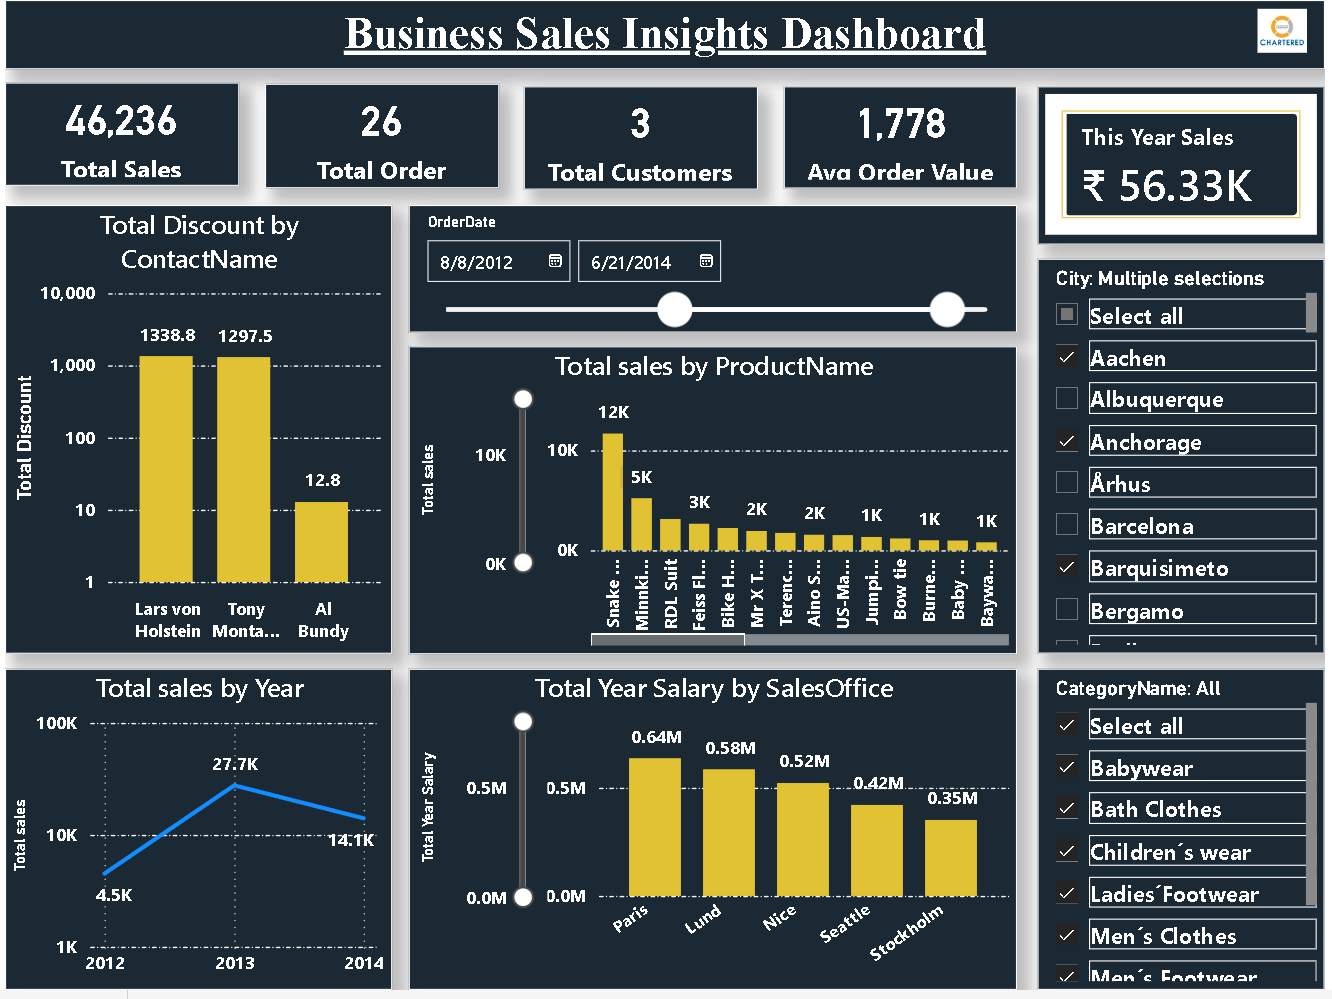

What the dashboard file says about the page in this screenshot:
{"tool":"powerbi","page":{"name":"First Slaes Dashboard 02.","canvas":[960,720],"ordinal":0},"visuals":[{"type":"textbox","box":[0,0,960,50],"z":0},{"type":"image","box":[911.2,0,36.2,45],"z":1000},{"type":"card","fields":{"Values":["OrderDetails.Total sales"]},"box":[0,59.9,170,75],"z":2000},{"type":"card","fields":{"Values":["OrderDetails.Total order"]},"box":[188.7,60.7,170,75.8],"z":3000},{"type":"card","fields":{"Values":["Customers.Total Customers"]},"box":[377.4,62.4,170,75],"z":4000},{"type":"card","fields":{"Values":["OrderDetails.Avg Order Value"]},"box":[566.2,62.4,170,74.6],"z":5000},{"type":"slicer","fields":{"Values":["OrderHeader.OrderDate"]},"box":[293.5,149.2,442.7,92.9],"z":6000},{"type":"lineChart","fields":{"Y":["OrderDetails.Total sales"],"Category":["OrderHeader.OrderDate.Variation.Date Hierarchy.Year"]},"box":[0,486.7,281.3,233.6],"z":7000},{"type":"clusteredColumnChart","fields":{"Category":["Products.ProductName"],"Y":["OrderDetails.Total sales"]},"box":[293.5,251.9,442.7,223.8],"z":8000},{"type":"clusteredColumnChart","fields":{"Y":["OrderDetails.Total Discount"],"Category":["Customers.ContactName"]},"box":[0,149.2,281.3,326.5],"z":9000},{"type":"clusteredColumnChart","fields":{"Category":["Offices.SalesOffice"],"Y":["Employees.Total Year Salary"]},"box":[293.5,486.7,442.7,233.6],"z":10000},{"type":"slicer","fields":{"Values":["Categories.CategoryName"]},"box":[750.8,486.7,209.1,233.6],"z":11000},{"type":"cardVisual","fields":{"Data":["OrderDetails.This Year Sales"]},"box":[750.8,62.4,209.1,114.9],"z":12000},{"type":"slicer","fields":{"Values":["Customers.City"]},"box":[750.8,188.3,209.1,287.4],"z":13000}]}

Visuals, with their boxes in screenshot pixels (x1, y1, x2, y2), scaled from the page's 960x720 canvas onto the 1332x999 screenshot:
textbox: 0/0/1331/69
image: 1264/0/1315/62
card - OrderDetails.Total sales: 0/83/236/187
card - OrderDetails.Total order: 262/84/498/189
card - Customers.Total Customers: 524/87/760/191
card - OrderDetails.Avg Order Value: 786/87/1021/190
slicer - OrderHeader.OrderDate: 407/207/1021/336
lineChart - OrderDetails.Total sales x OrderHeader.OrderDate.Variation.Date Hierarchy.Year: 0/675/390/998
clusteredColumnChart - Products.ProductName x OrderDetails.Total sales: 407/350/1021/660
clusteredColumnChart - OrderDetails.Total Discount x Customers.ContactName: 0/207/390/660
clusteredColumnChart - Offices.SalesOffice x Employees.Total Year Salary: 407/675/1021/998
slicer - Categories.CategoryName: 1042/675/1331/998
cardVisual - OrderDetails.This Year Sales: 1042/87/1331/246
slicer - Customers.City: 1042/261/1331/660
